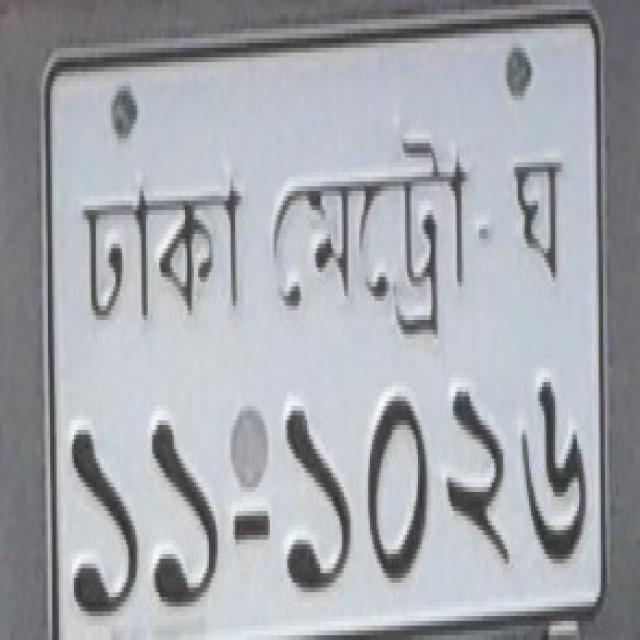numberplate: (32, 12, 617, 635)
